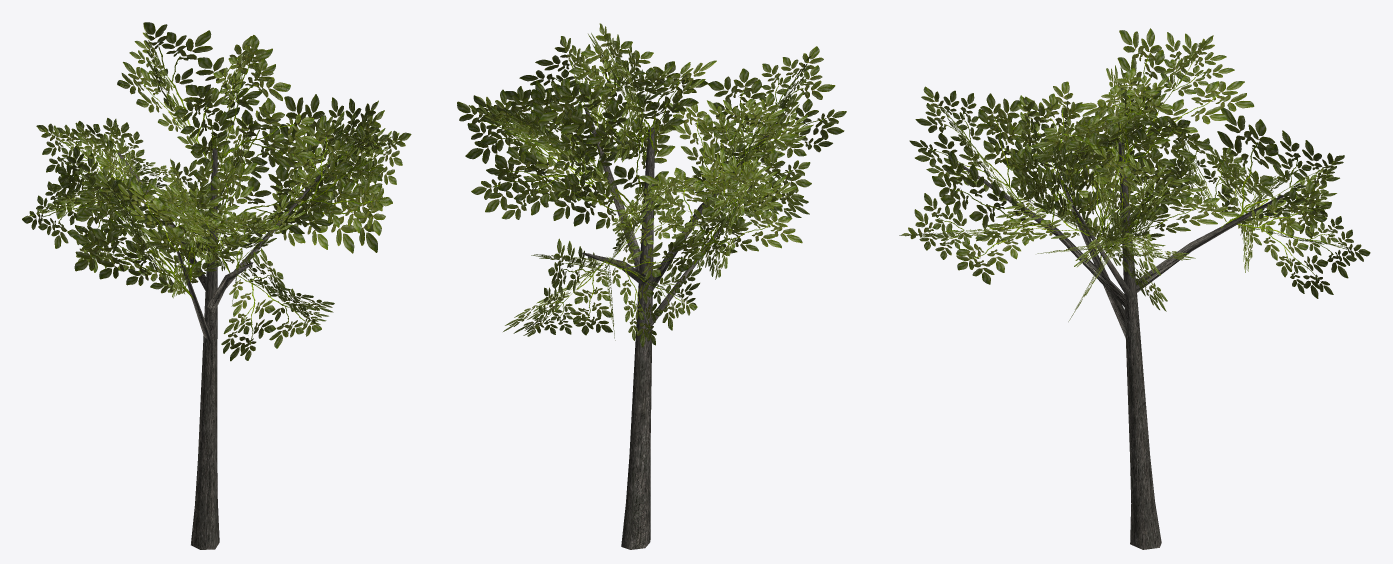
File: Tree-B-02.fbx
3 renders of one model, left to right at view 1: azimuth 30°, elevation 25°; view 2: azimuth 150°, elevation 25°; view 3: azimuth 270°, elevation 25°, orthographic.
Parts seen in each view (by area): view 1: Tree-B-02; view 2: Tree-B-02; view 3: Tree-B-02.
Part boxes in pixels (x1=…): Tree-B-02: x1=22, y1=22, x2=411, y2=549; Tree-B-02: x1=457, y1=23, x2=846, y2=549; Tree-B-02: x1=899, y1=28, x2=1370, y2=549.
Size of the model in its own units: 491 by 691 by 606.
